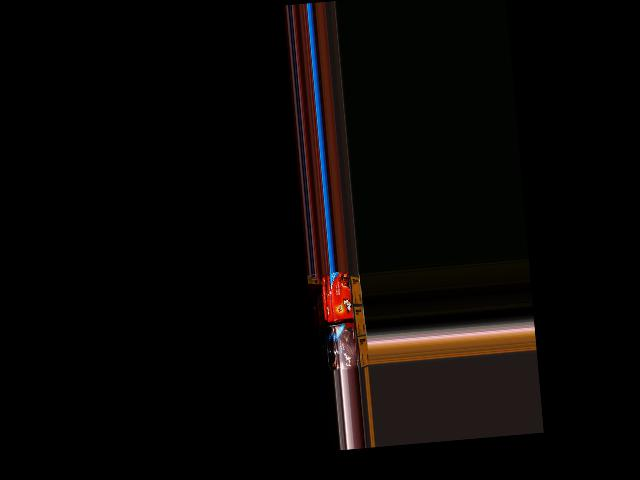chocolate: (332, 326, 363, 371)
